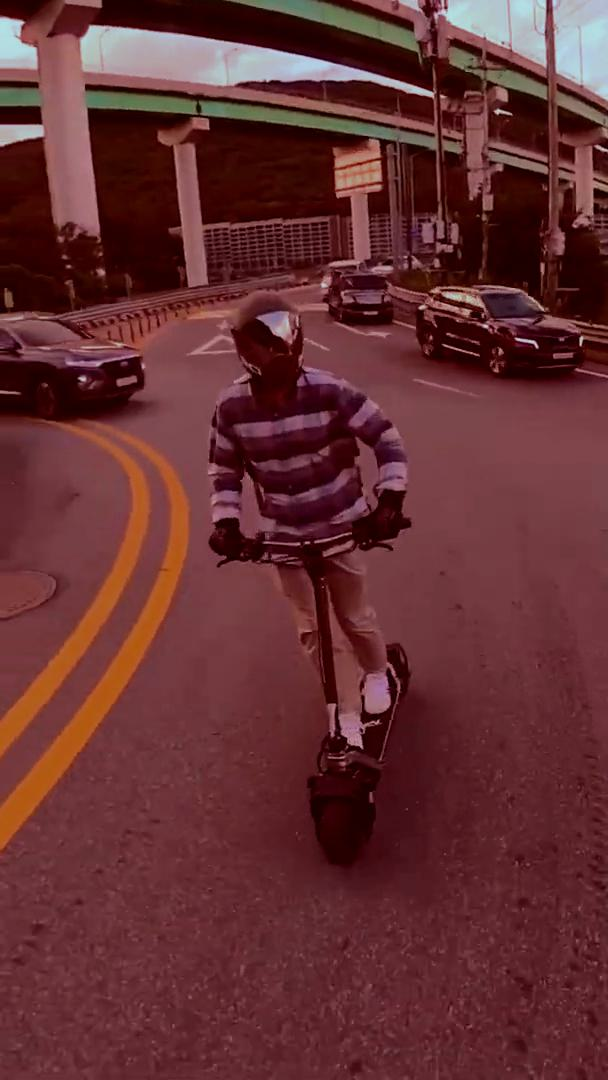helmet: (202, 288, 416, 863)
